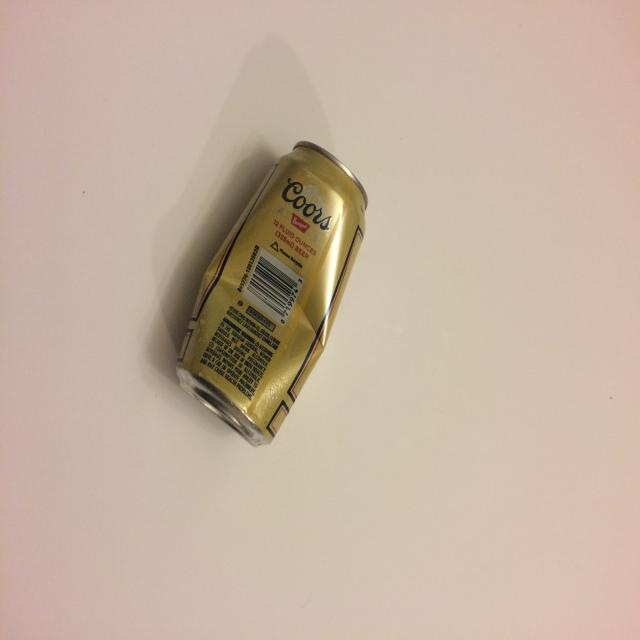metal: (174, 138, 368, 448)
